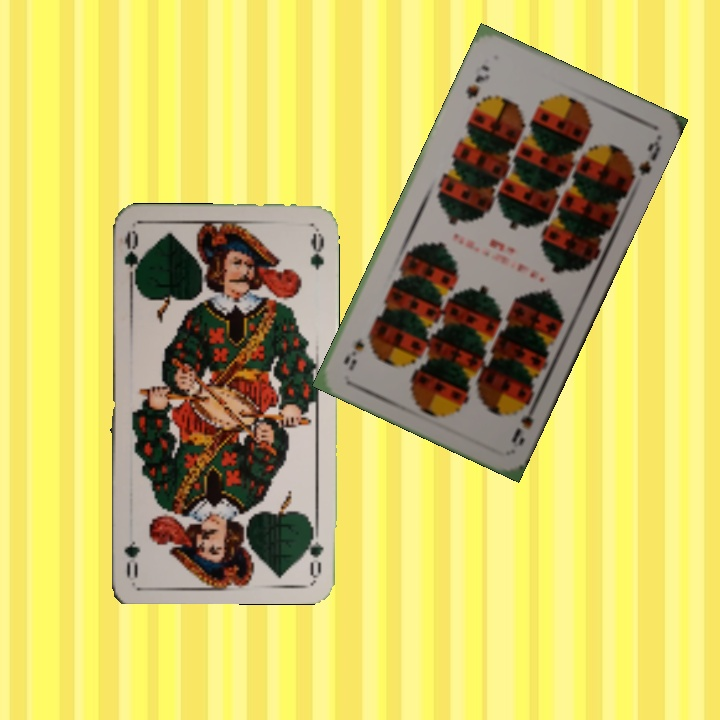GO: (121, 228, 145, 287), (303, 519, 326, 578)
S9: (507, 394, 541, 449), (462, 60, 492, 102)
